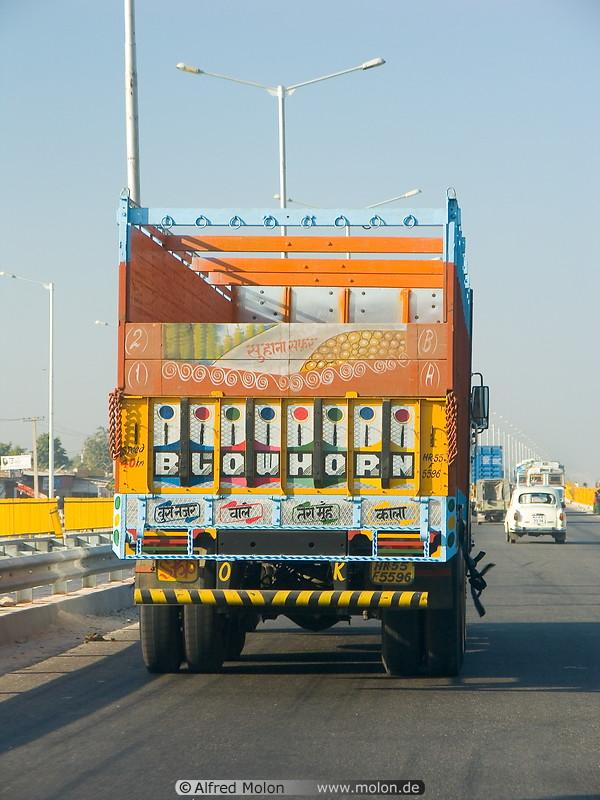Trucks: (110, 195, 486, 674)
